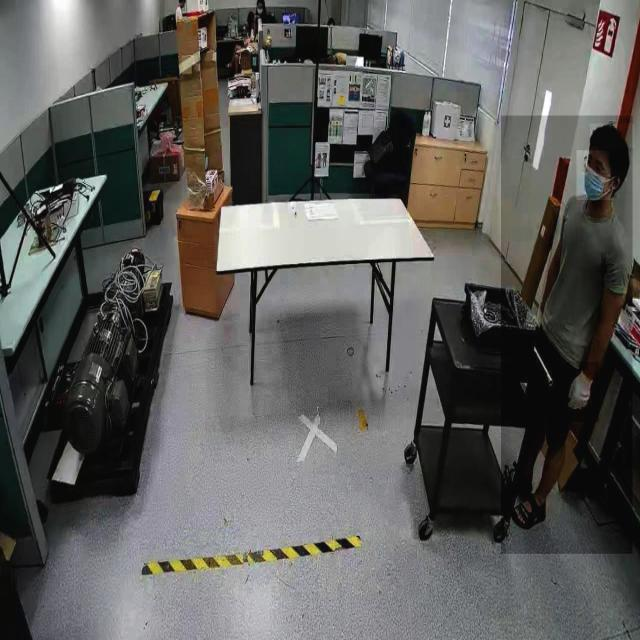face_mask: (577, 150, 613, 200)
hand_glove: (567, 362, 599, 423)
head_nohelmet: (590, 124, 634, 150)
person: (500, 116, 632, 554)
